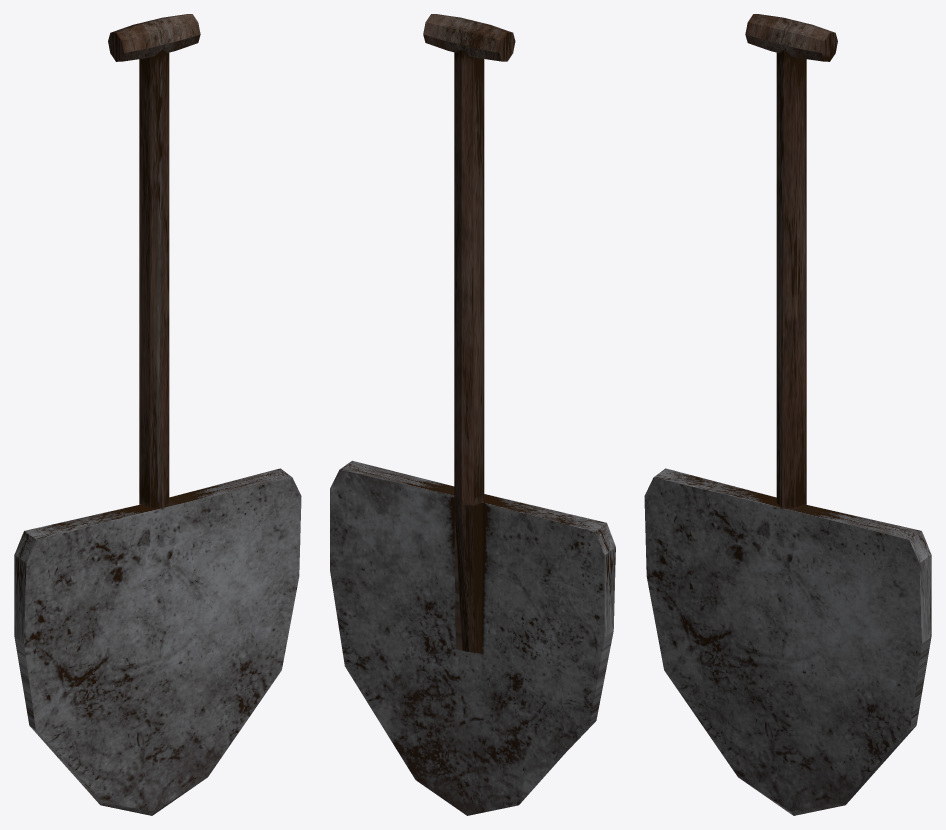
Rendered from Shovel.fbx.
3 renders of one model, left to right at view 1: azimuth 30°, elevation 25°; view 2: azimuth 150°, elevation 25°; view 3: azimuth 330°, elevation 25°, orthographic.
Visible parts, largest first — view 1: shovel; view 2: shovel; view 3: shovel.
Part boxes in pixels (x1,y1,x2,y2): shovel: (14,14,301,815); shovel: (330,14,615,815); shovel: (644,14,931,815).
Bounding box in the file's own units: 101 × 280 × 12.47.
